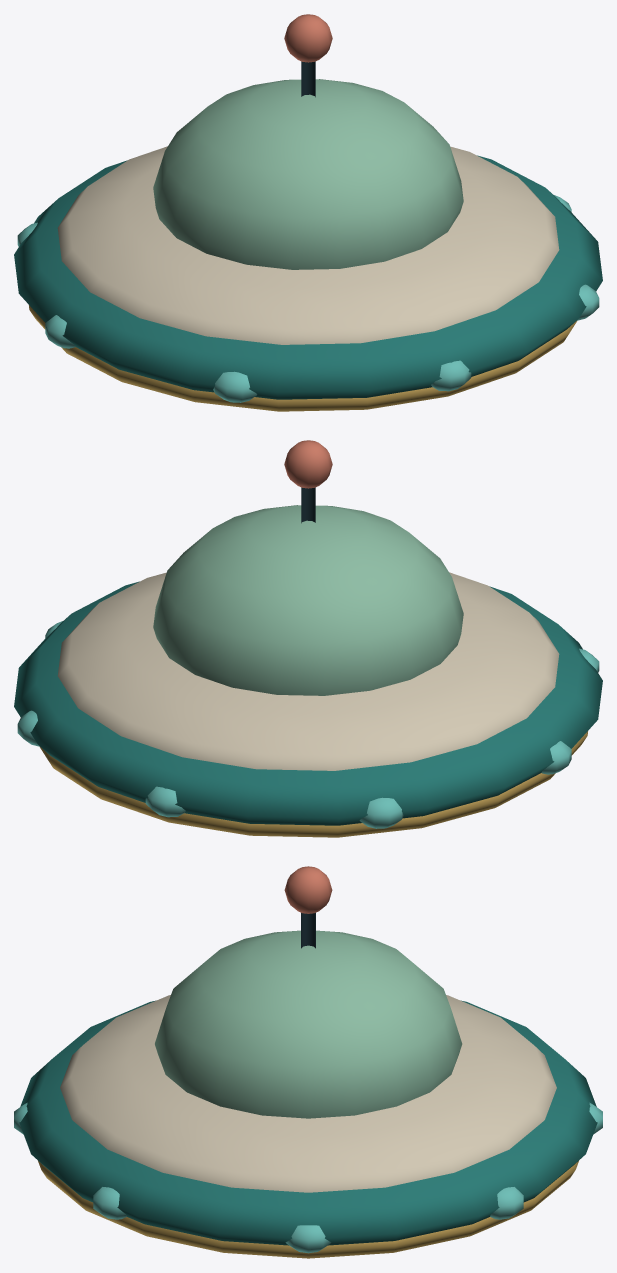
The model's file is alien-scout-lod1.glb.
The picture shows the model from 3 angles, top to bottom: view 1: azimuth 30°, elevation 25°; view 2: azimuth 150°, elevation 25°; view 3: azimuth 270°, elevation 25°; orthographic projection.
Parts seen in each view (by area): view 1: shell, emission; view 2: shell, emission; view 3: shell, emission.
Part boxes in pixels (bbox=[...]): shell: bbox=[14, 14, 602, 411]; emission: bbox=[17, 195, 599, 402]; shell: bbox=[14, 440, 602, 837]; emission: bbox=[17, 621, 599, 828]; shell: bbox=[19, 866, 597, 1258]; emission: bbox=[14, 1102, 602, 1253].
Bounding box in the file's own units: 2.23 × 1.46 × 2.22.
